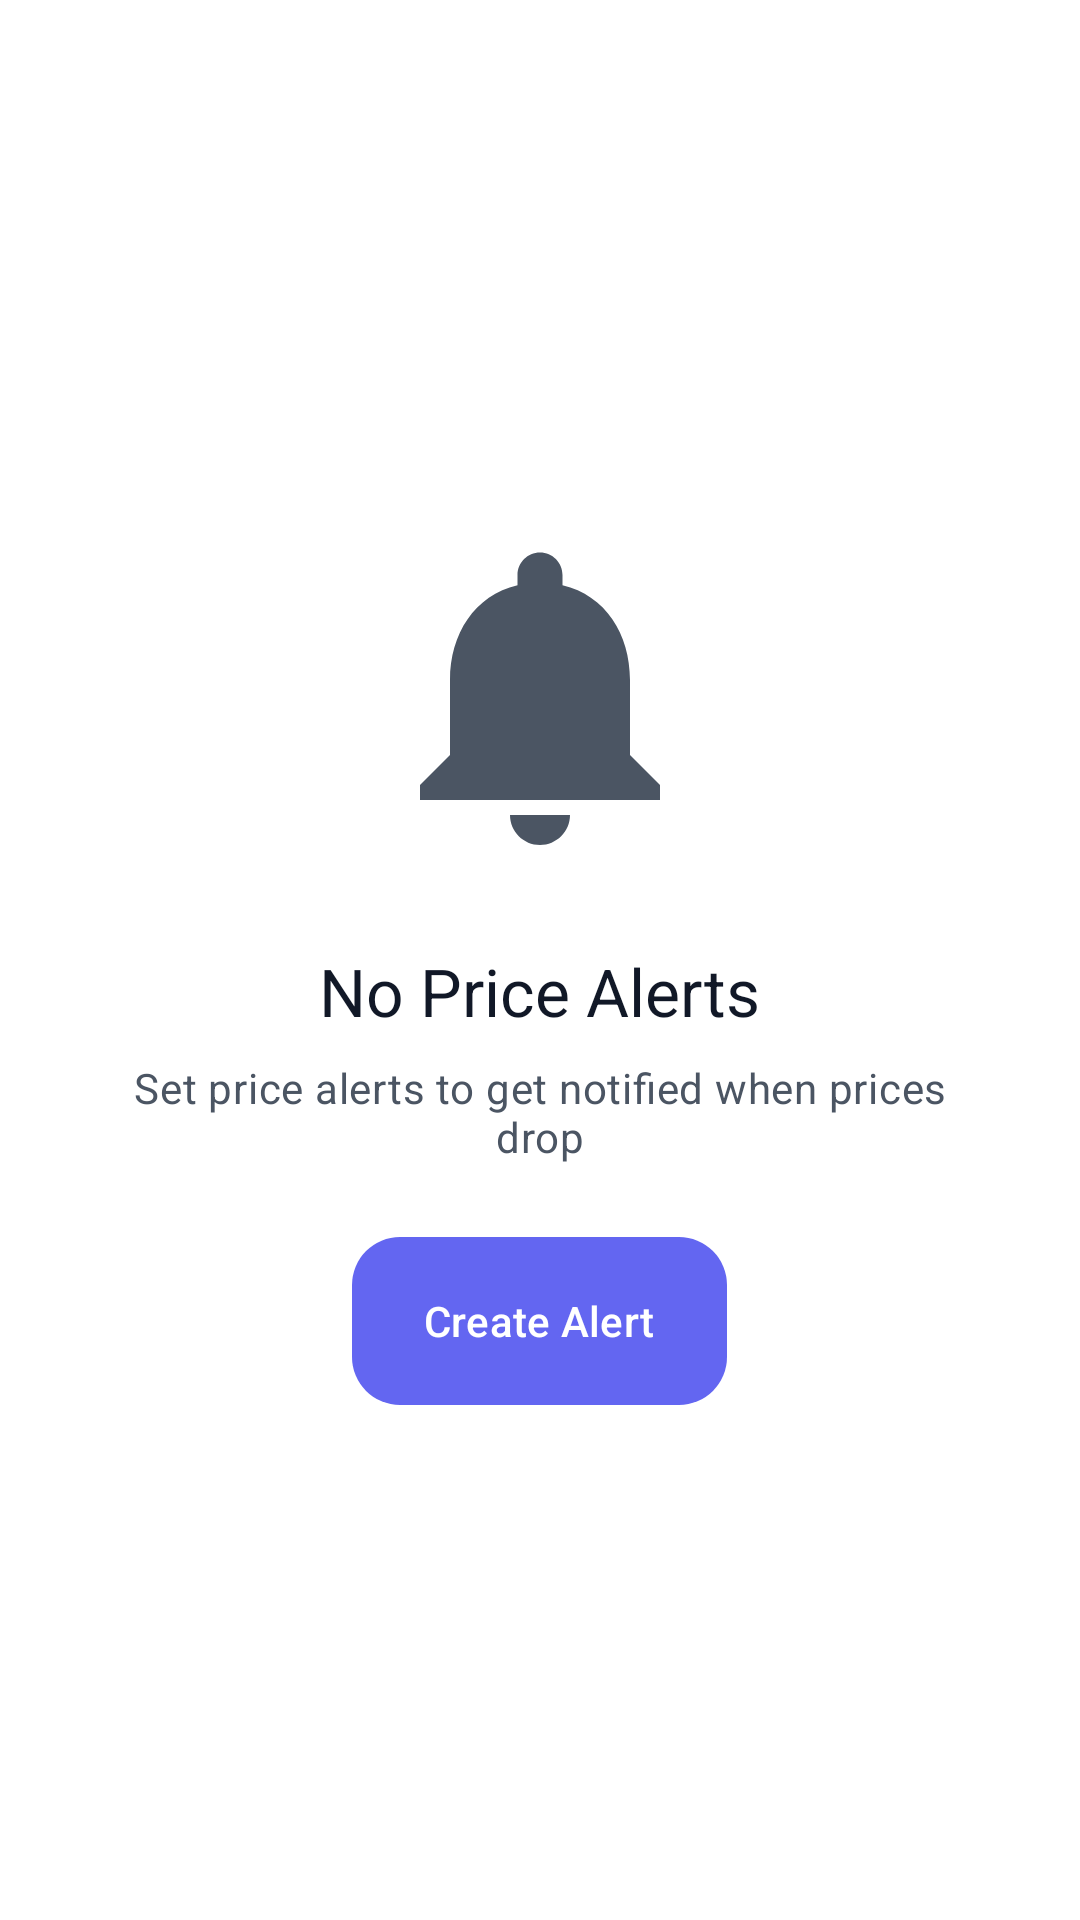

Locate icon controls on the screen. Image size 1080 x 1920, boxes as [x1,y1,x2,y2].
notifications: [420,552,660,845]
